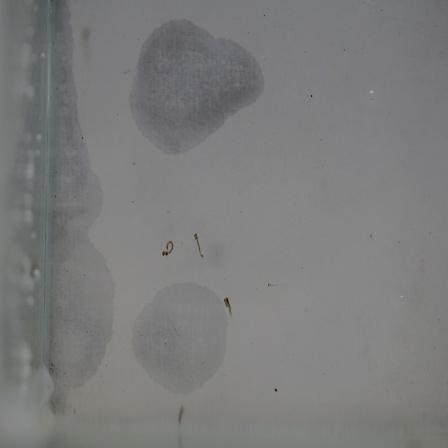Jentik-Nyamuk: (188, 227, 212, 265), (218, 292, 237, 321), (157, 236, 177, 261)
